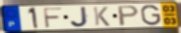1: (27, 6, 40, 30)
F: (42, 7, 64, 29)
G: (140, 4, 163, 27)
J: (70, 6, 91, 28)
K: (92, 6, 111, 27)
P: (117, 5, 141, 27)
